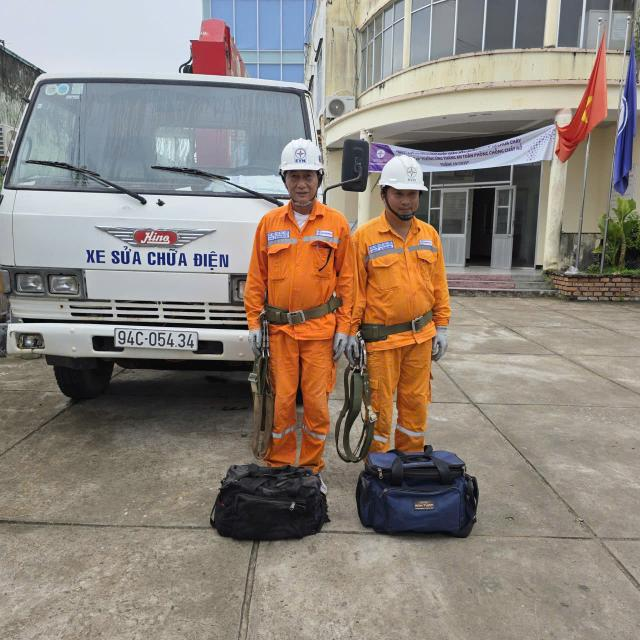gloves: (339, 332, 368, 365), (239, 325, 267, 355), (323, 330, 344, 363), (429, 328, 450, 361)
harness: (259, 279, 350, 338), (336, 304, 446, 348)
helmet: (261, 127, 335, 192), (371, 154, 434, 194)
